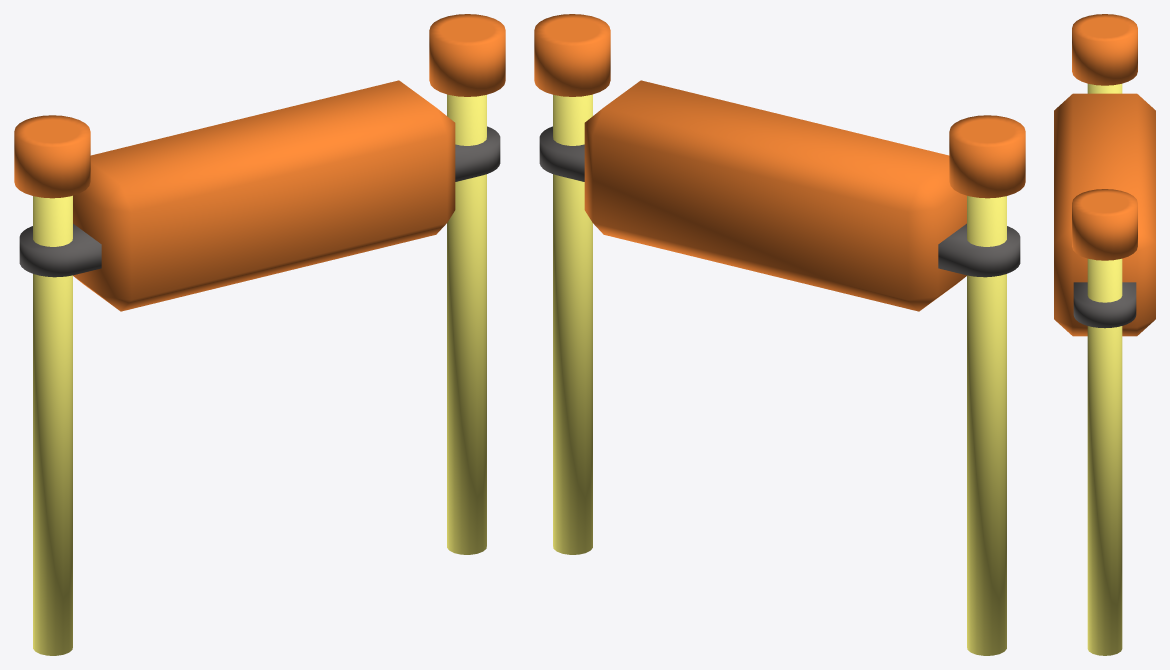
File: Obstacle 25 V3.fbx
3 views of the same model, side by side, from view 1: azimuth 30°, elevation 25°; view 2: azimuth 150°, elevation 25°; view 3: azimuth 270°, elevation 25° (orthographic). The views are drawn at different scales.
Parts seen in each view (by area): view 1: O25 Part 1, O25 Part 2; view 2: O25 Part 1, O25 Part 2; view 3: O25 Part 2, O25 Part 1.
Boxes of the visible parts, left/top/right/bottom form: O25 Part 1: left=19, top=80, right=500, bottom=311; O25 Part 2: left=14, top=14, right=505, bottom=655; O25 Part 1: left=539, top=80, right=1020, bottom=311; O25 Part 2: left=534, top=14, right=1025, bottom=655; O25 Part 2: left=1072, top=14, right=1137, bottom=655; O25 Part 1: left=1054, top=93, right=1155, bottom=336.
Size of the model in its own units: 294 by 302 by 62.5.
1 material, 1 textured.
